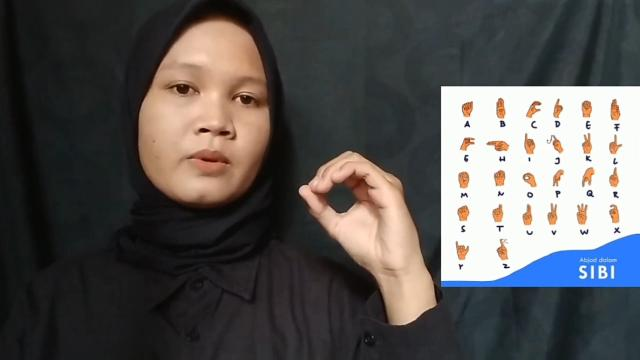O: (296, 146, 424, 276)
